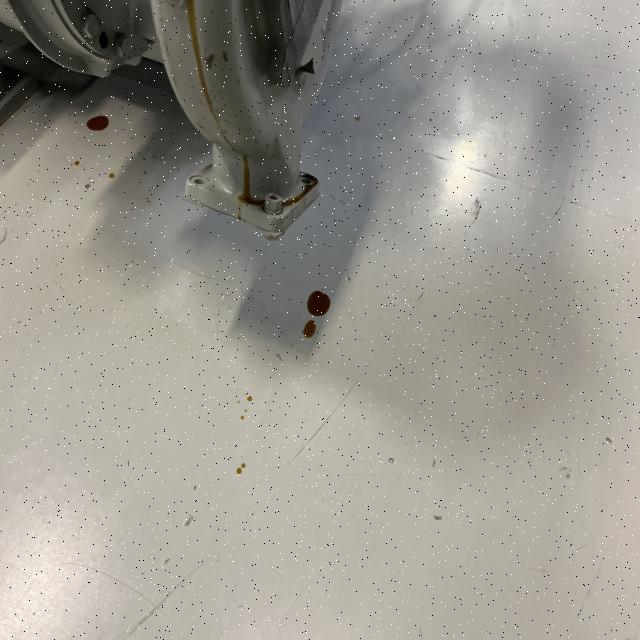Oil Leak: (182, 0, 223, 136), (268, 169, 327, 233), (237, 155, 265, 220), (302, 288, 334, 321), (190, 196, 236, 216), (182, 171, 203, 200), (86, 116, 109, 131), (303, 320, 316, 338)
